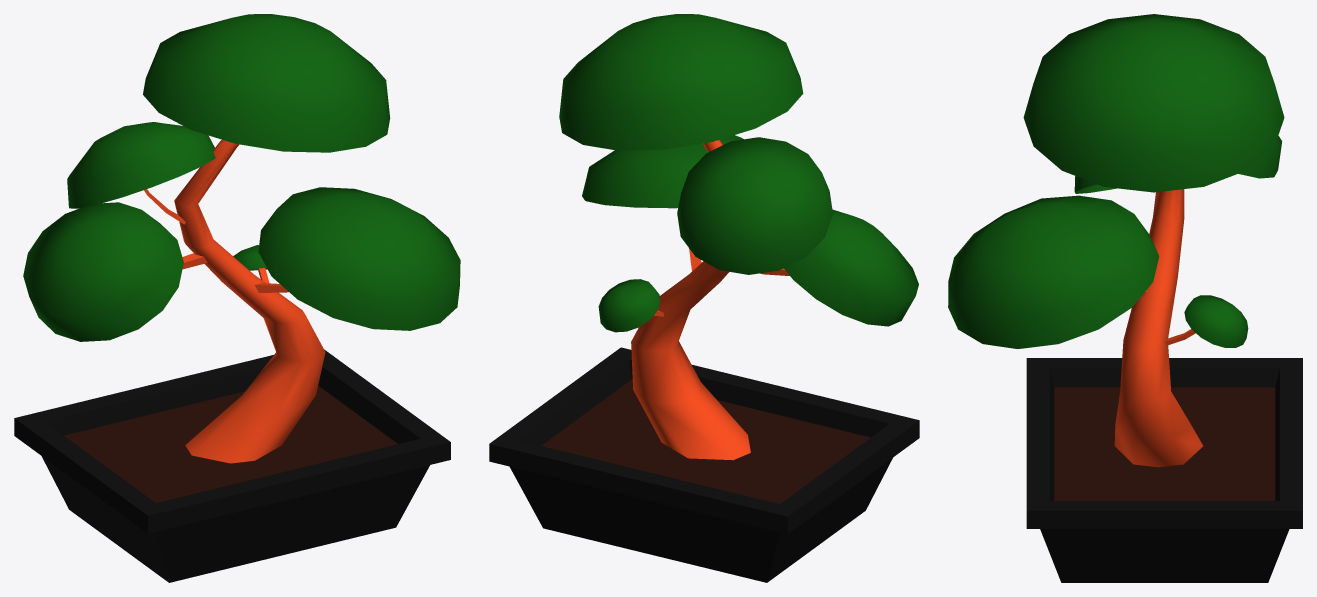
Rendered from Bonsai.FBX.
3 views of the same model, side by side, from view 1: azimuth 30°, elevation 25°; view 2: azimuth 150°, elevation 25°; view 3: azimuth 270°, elevation 25° (orthographic). The views are drawn at different scales.
Visible parts, largest first — view 1: Object298; view 2: Object298; view 3: Object298.
Boxes of the visible parts, x1=… form: Object298: x1=14, y1=14, x2=460, y2=582; Object298: x1=489, y1=14, x2=919, y2=582; Object298: x1=948, y1=14, x2=1302, y2=582.
Size of the model in its own units: 3.61 by 4.64 by 2.93.
